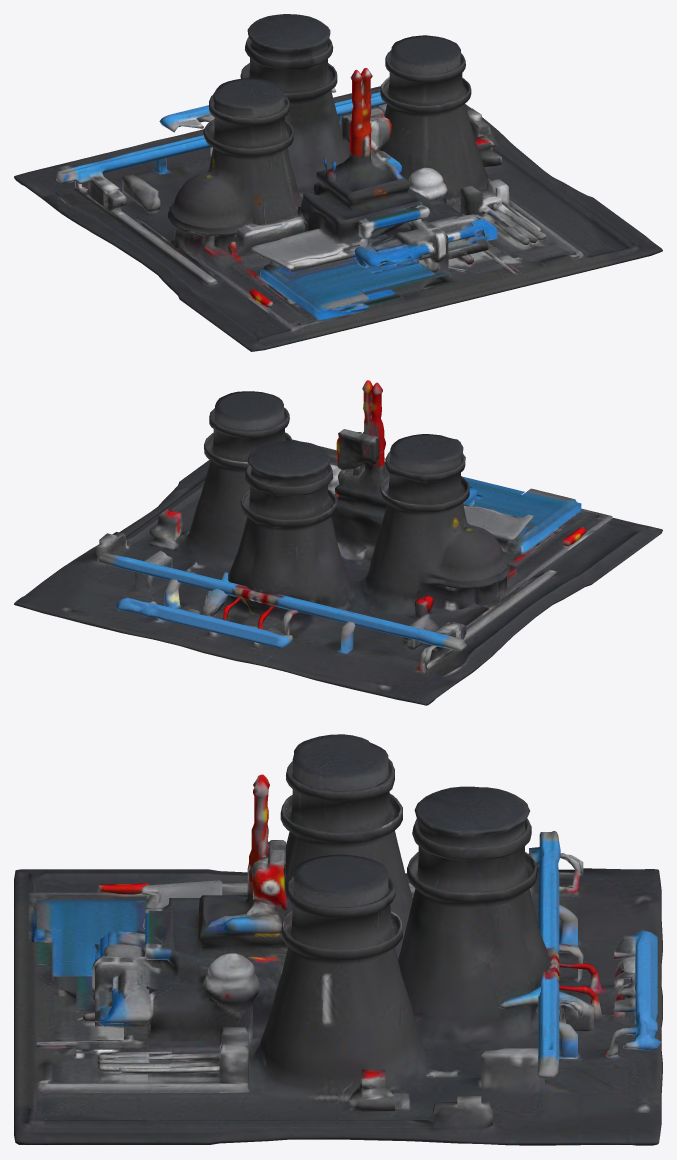
The model's file is nuclear_plant.glb.
The picture shows the model from 3 angles, top to bottom: view 1: azimuth 30°, elevation 25°; view 2: azimuth 150°, elevation 25°; view 3: azimuth 270°, elevation 25°; orthographic projection. The views are drawn at different scales.
Size of the model in its own units: 1.91 by 0.7436 by 1.91.
Materials: 1 (1 with a texture image).
